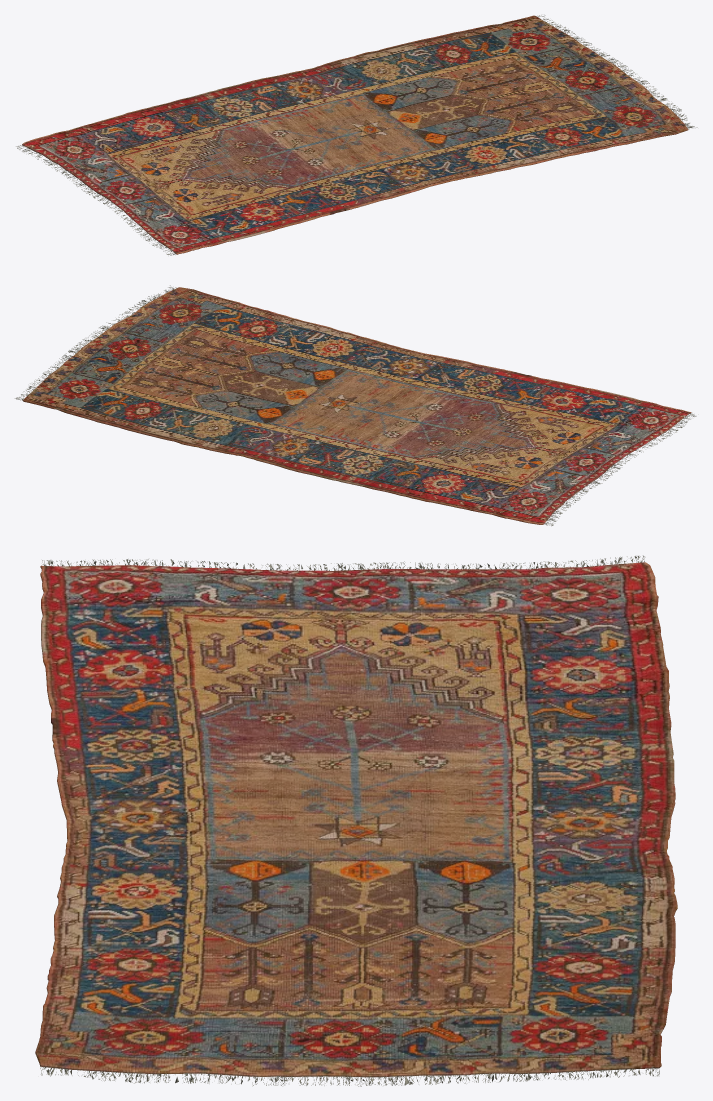
File: carpet.glb
3 renders of one model, top to bottom at view 1: azimuth 30°, elevation 25°; view 2: azimuth 150°, elevation 25°; view 3: azimuth 270°, elevation 25°, orthographic. The views are drawn at different scales.
Visible parts, largest first — view 1: Object_4, Object_6; view 2: Object_4, Object_6; view 3: Object_4, Object_6.
Part boxes in pixels (bbox=[...]): Object_4: bbox=[22, 15, 688, 254]; Object_6: bbox=[16, 15, 697, 255]; Object_4: bbox=[22, 287, 691, 524]; Object_6: bbox=[14, 285, 696, 526]; Object_4: bbox=[35, 562, 677, 1077]; Object_6: bbox=[40, 555, 659, 1086].
Bounding box in the file's own units: 1.96 × 0.00675 × 1.
Materials: 2 (1 with a texture image).
